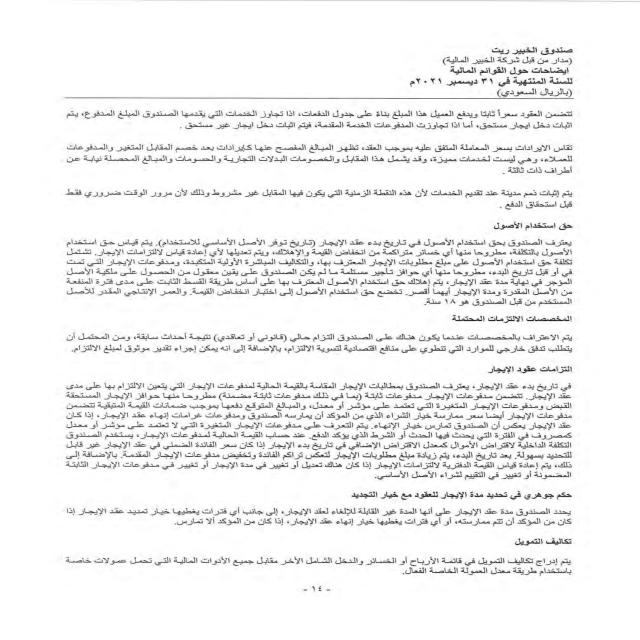notes: (438, 66, 571, 76)
text: (36, 109, 584, 590)
